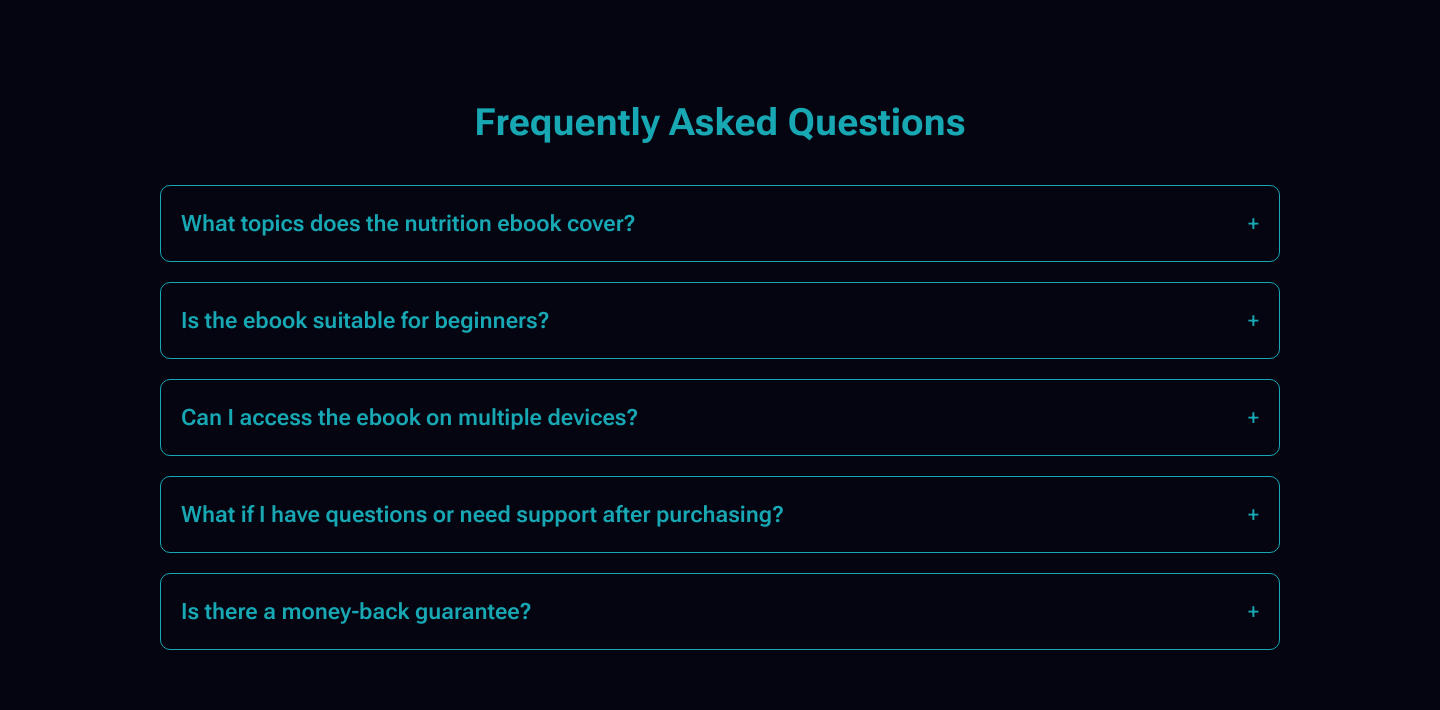
Test: FAQSection component › should toggle FAQ answers on click
(page scrolled)
Click the heading "What topics does the nutrition ebook cover?" at (408, 224), box 181,206 -> 635,241
(page scrolled)
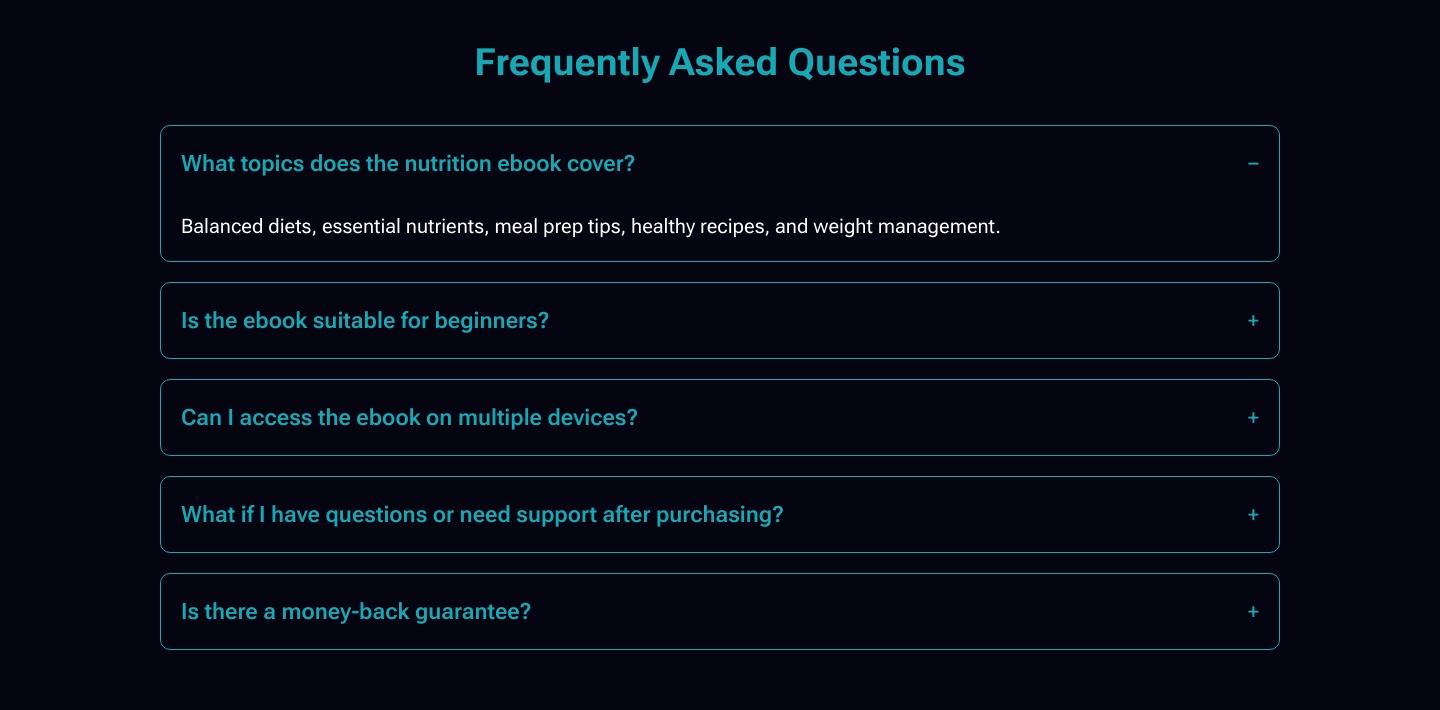
Expected: the text "Balanced diets, essential nutrients, meal prep tips, healthy recipes, and weight management." is shown, 181,214 -> 1001,238
Click the heading "What topics does the nutrition ebook cover?" at (408, 164), box 181,146 -> 635,181
(page scrolled)
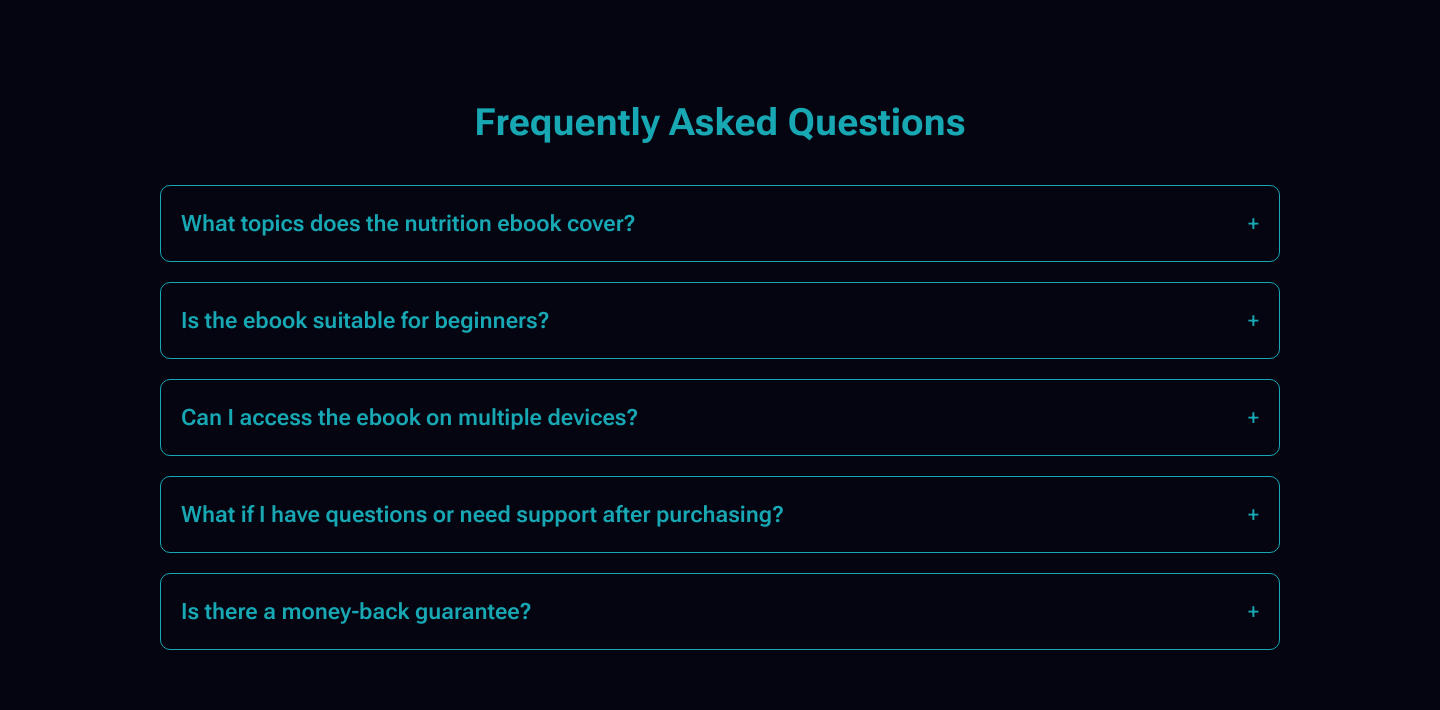
Expected: the text "Balanced diets, essential nutrients, meal prep tips, healthy recipes, and weight management." is gone
